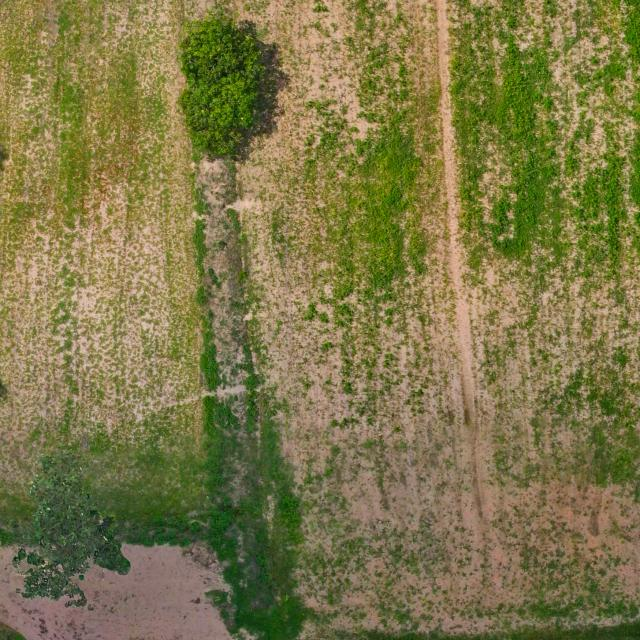Tree: (12, 442, 129, 608), (176, 23, 274, 163)
